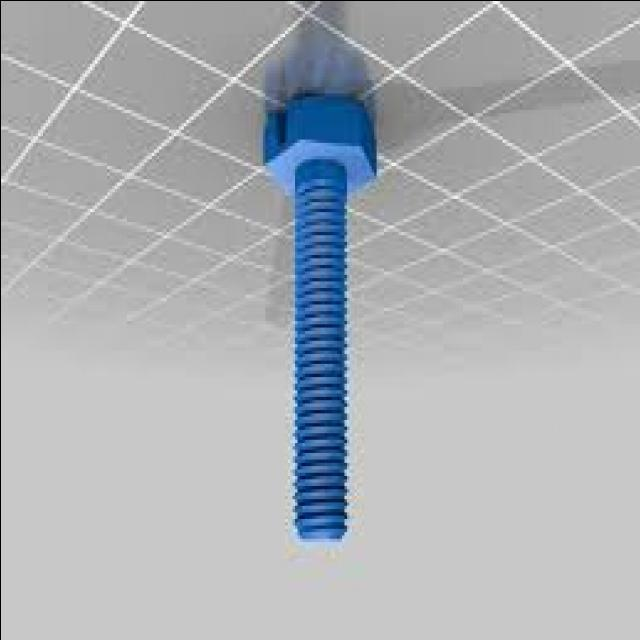bolt: (263, 98, 376, 535)
